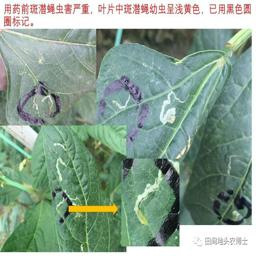liriomyza: (133, 166, 162, 224), (157, 91, 188, 124), (54, 155, 68, 182)
